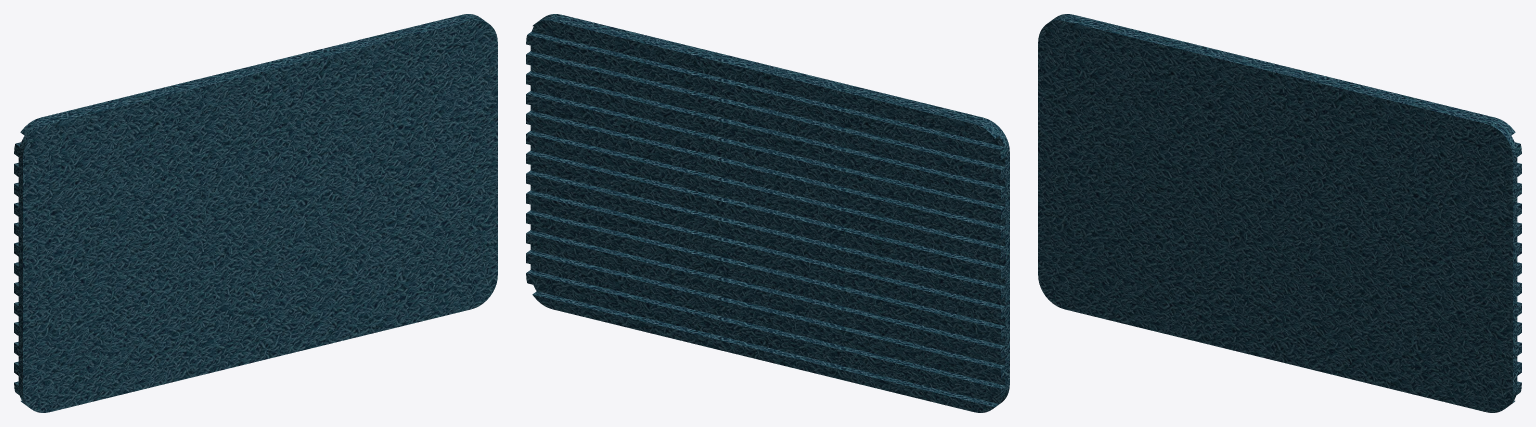
The model's file is dörrmatta.fbx.
3 renders of one model, left to right at view 1: azimuth 30°, elevation 25°; view 2: azimuth 150°, elevation 25°; view 3: azimuth 330°, elevation 25°, orthographic.
Parts seen in each view (by area): view 1: dörrmatta2; view 2: dörrmatta2; view 3: dörrmatta2.
Part boxes in pixels (x1,y1,x2,y2): dörrmatta2: [14, 14, 497, 412]; dörrmatta2: [526, 14, 1009, 412]; dörrmatta2: [1038, 14, 1521, 412].
Size of the model in its own units: 12500 by 7250 by 400.
